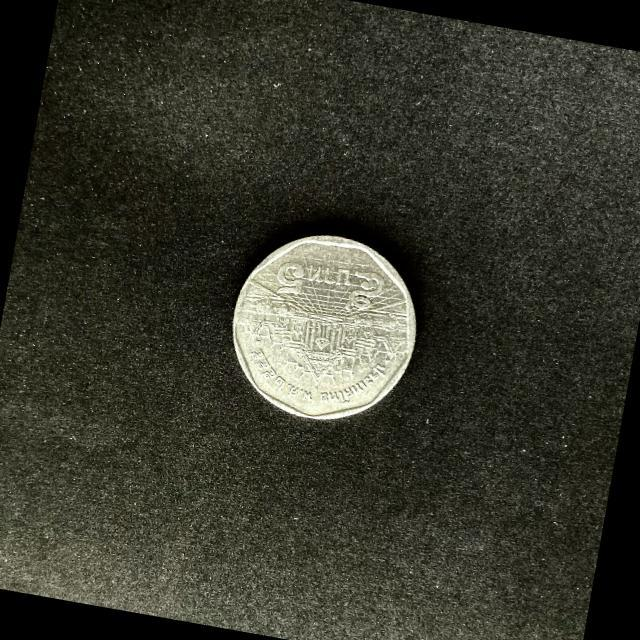5 Bath: (231, 232, 421, 426)
